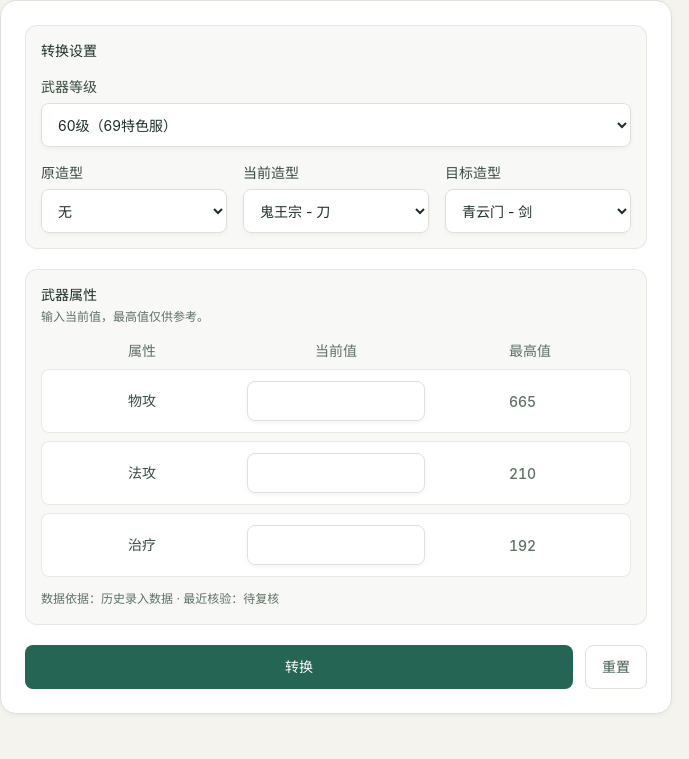
Scenario: 原造型属性值显示功能 › 当没有选择原造型时，不应该显示查看原造型数据按钮
Type "500" into the number field labelled "物攻" at (336, 401), box [247,381,425,421]
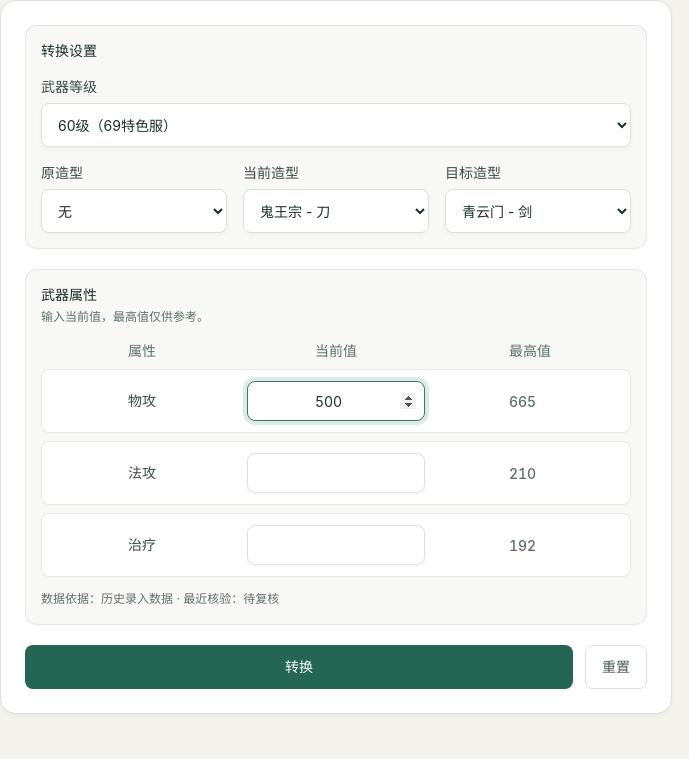
Type "150" into the number field labelled "法攻" at (336, 473), box [247,453,425,493]
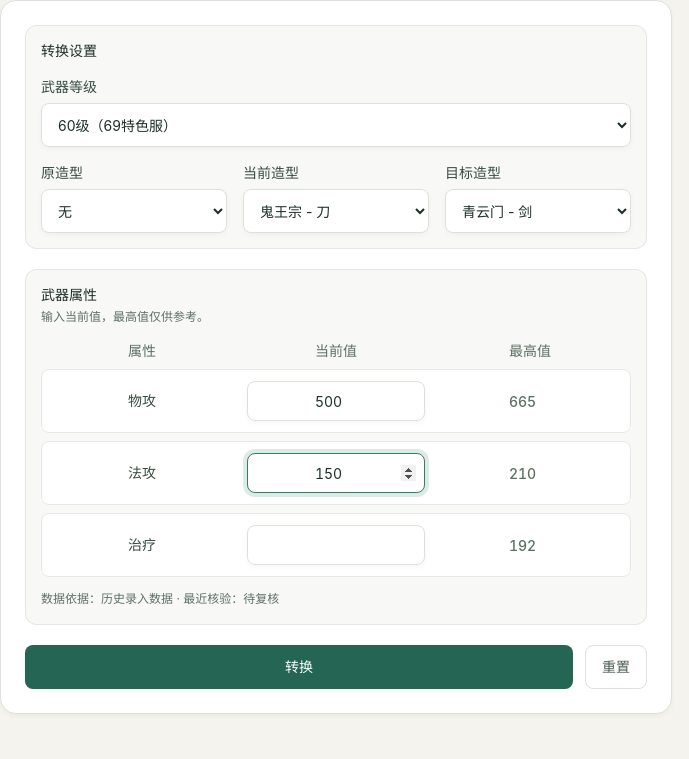
Type "120" into the number field labelled "治疗" at (336, 545), box [247,525,425,565]
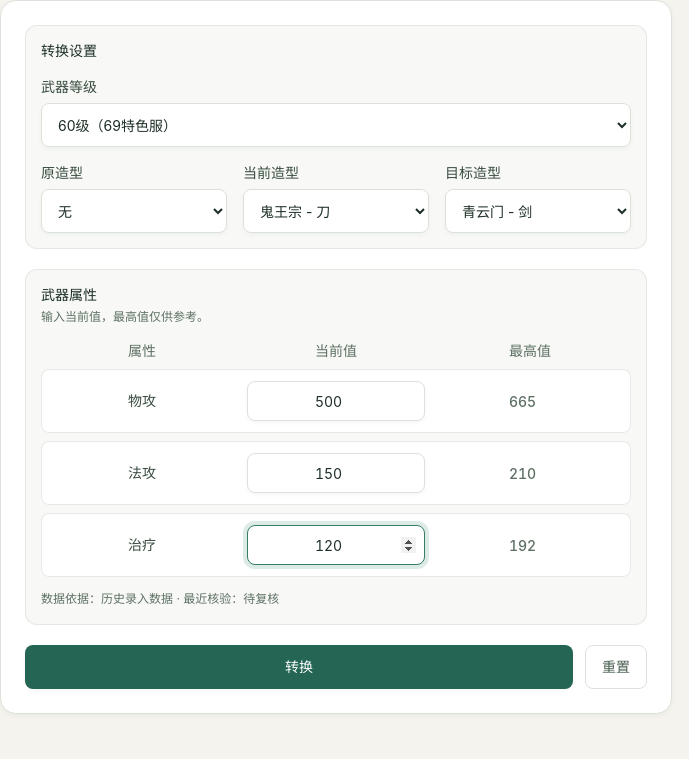
Select "天音寺 - 禅杖" in the dropdown labelled "当前造型" at (336, 211), box [243,189,429,233]
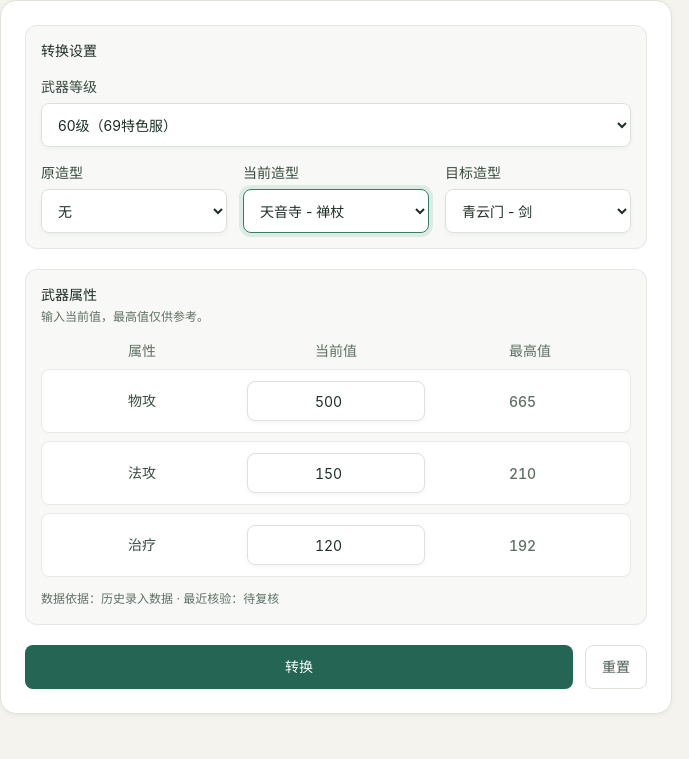
Select "青云门 - 剑" in the dropdown labelled "目标造型" at (538, 211), box [445,189,631,233]
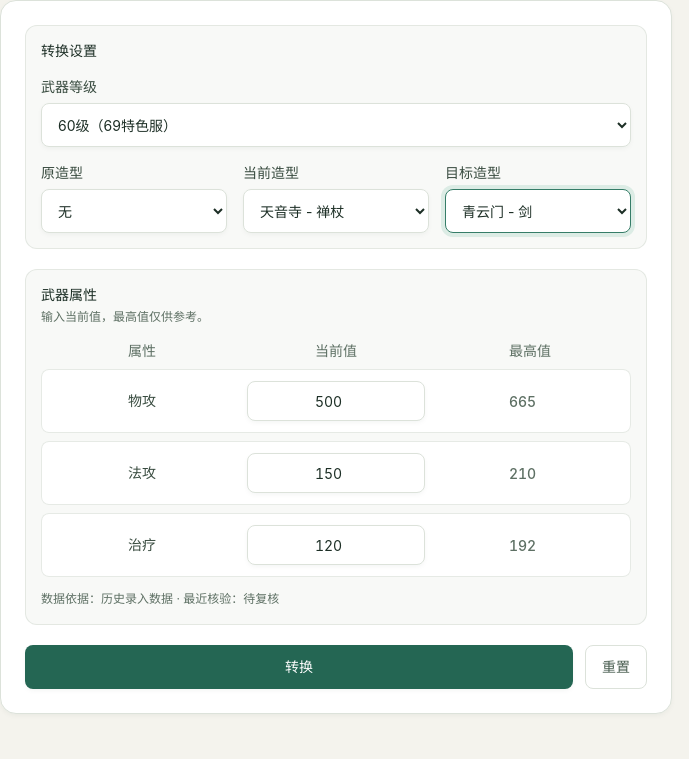
Click the button "转换" at (299, 667), box [25,645,573,689]
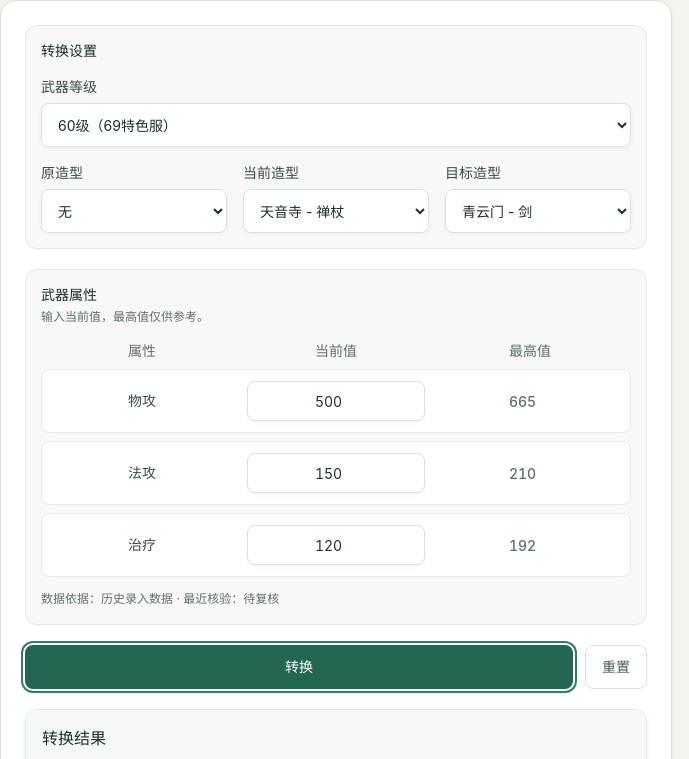
Now the heading "转换结果" is shown, box [42,728,106,748]
